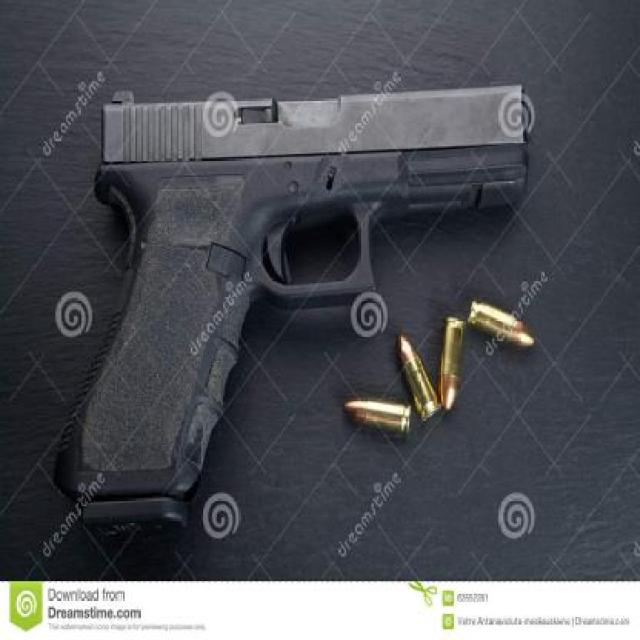guns: (54, 81, 526, 525)
